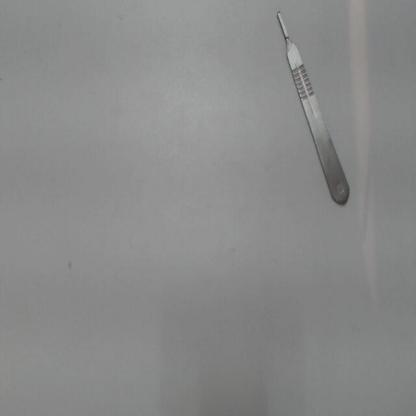No.3 BP Handle: (269, 2, 354, 215)
